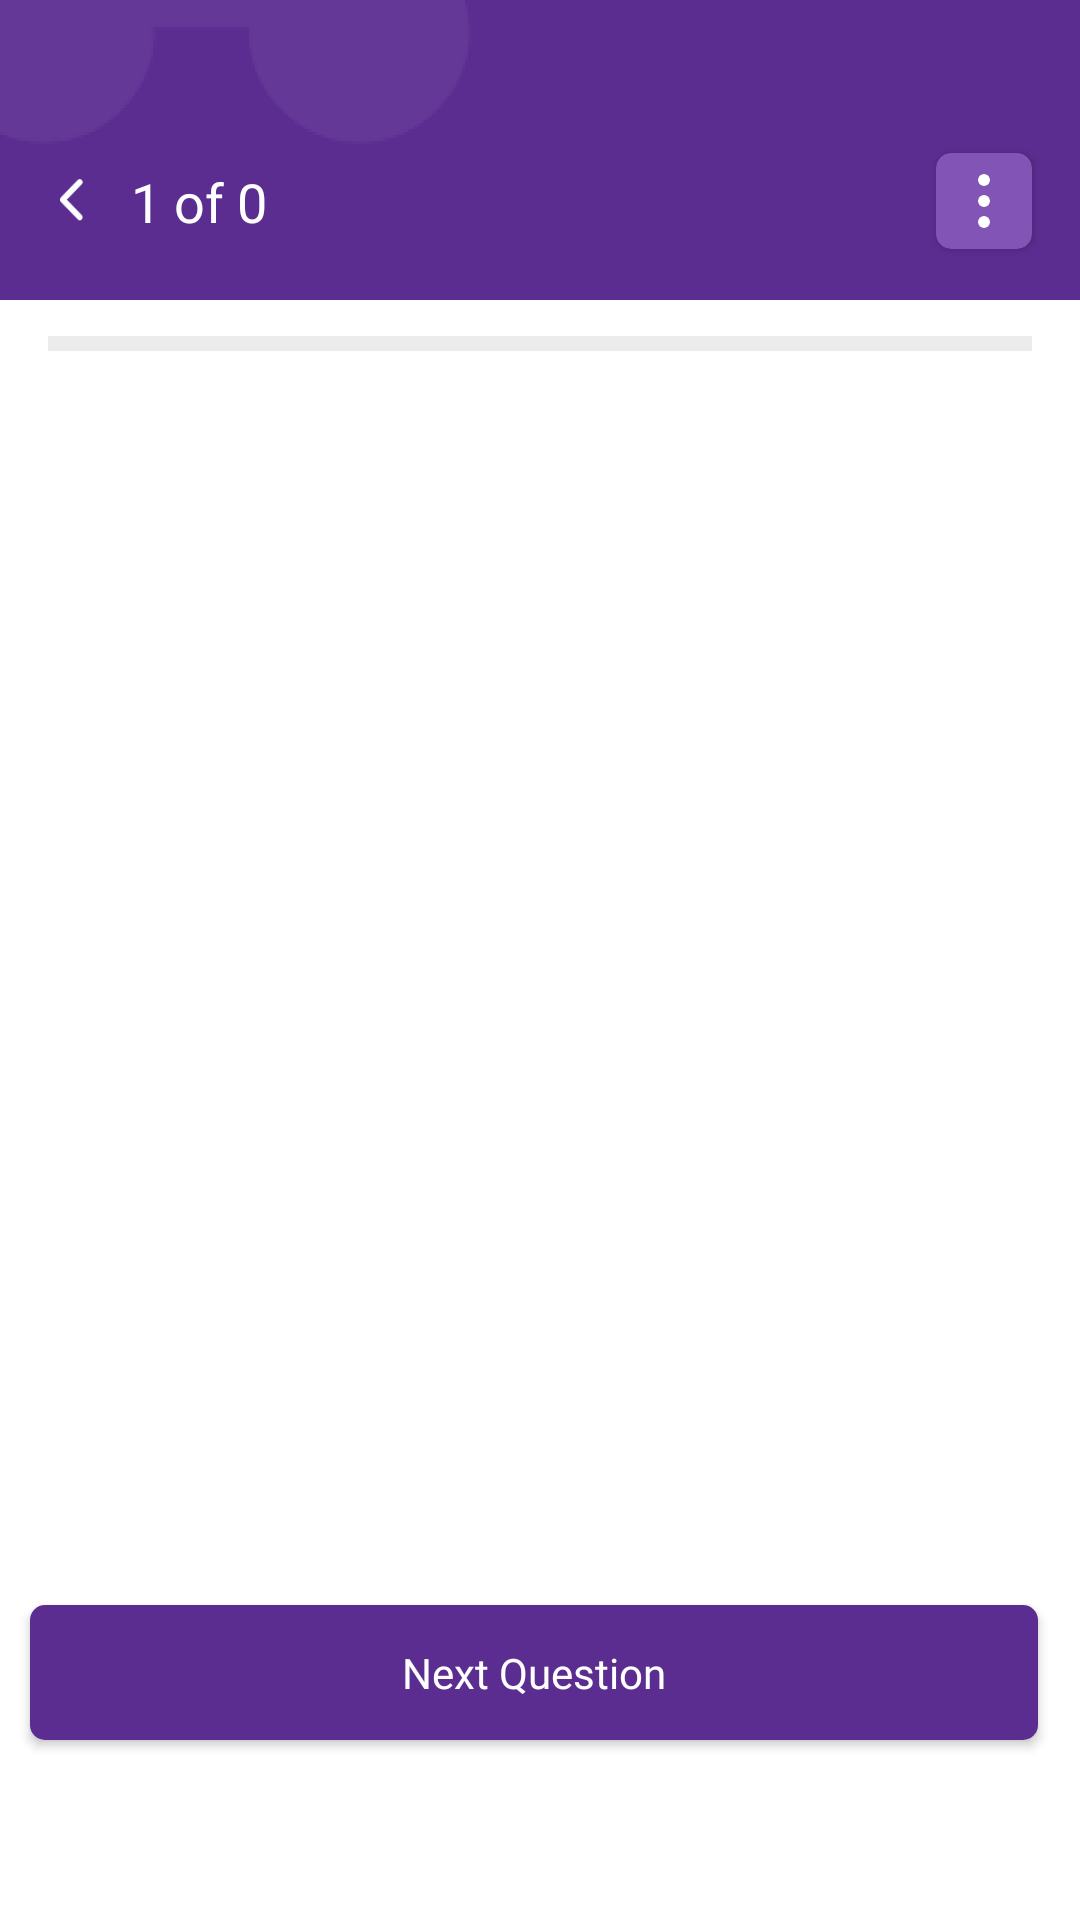

Icons on this 1080×1920 Android screen, each with its box as bbox=[x1, y1, x2, y2]:
linear more: bbox=[978, 174, 990, 228]
